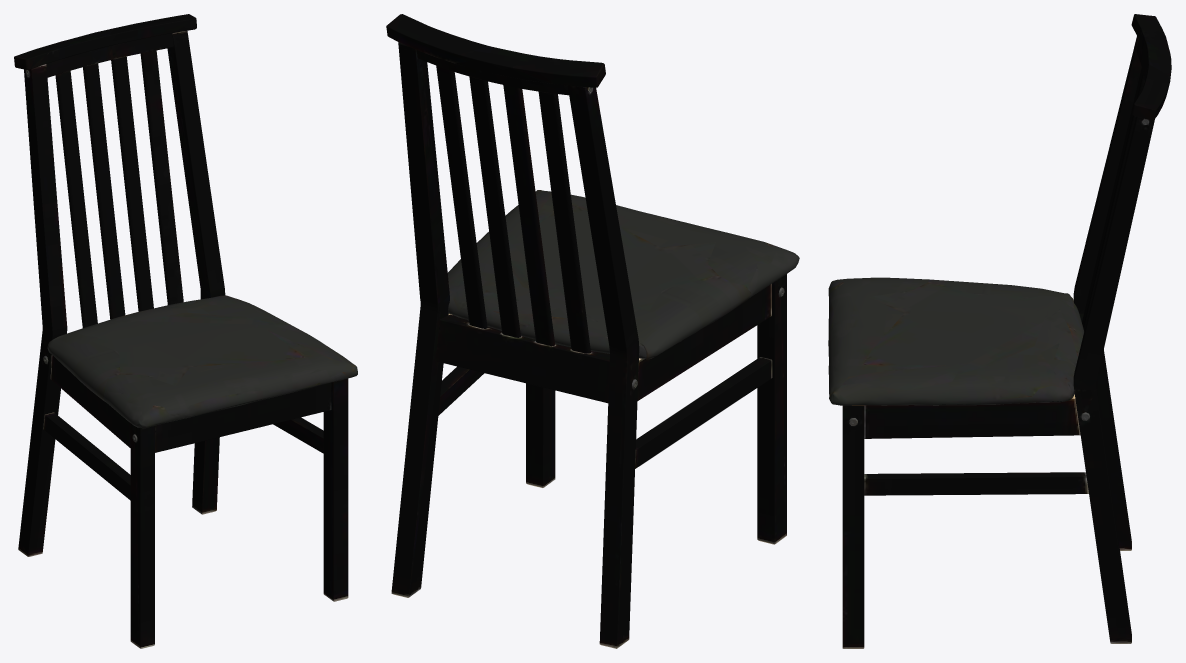
3 views of the same model, side by side, from view 1: azimuth 30°, elevation 25°; view 2: azimuth 150°, elevation 25°; view 3: azimuth 270°, elevation 25° (orthographic). The views are drawn at different scales.
Parts seen in each view (by area): view 1: model; view 2: model; view 3: model.
Part boxes in pixels (x1,y1,x2,y2): model: (14, 14, 357, 648); model: (386, 14, 799, 648); model: (828, 14, 1171, 648).
Bounding box in the file's own units: 0.4516 × 0.9414 × 0.5473.
Materials: 1 (1 with a texture image).
